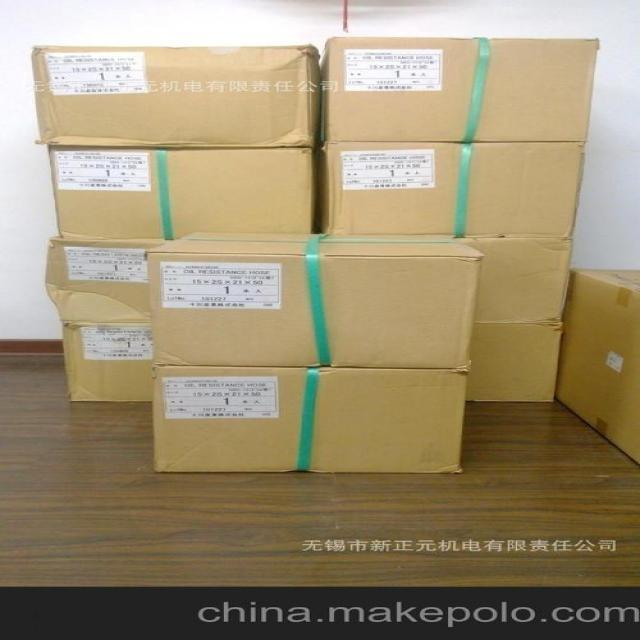box: (152, 227, 475, 369), (153, 362, 455, 478), (32, 43, 328, 149), (317, 35, 586, 140), (312, 141, 574, 243), (52, 150, 323, 246), (564, 266, 640, 466), (447, 234, 577, 323), (37, 238, 159, 329), (44, 318, 160, 407), (460, 318, 571, 406)
